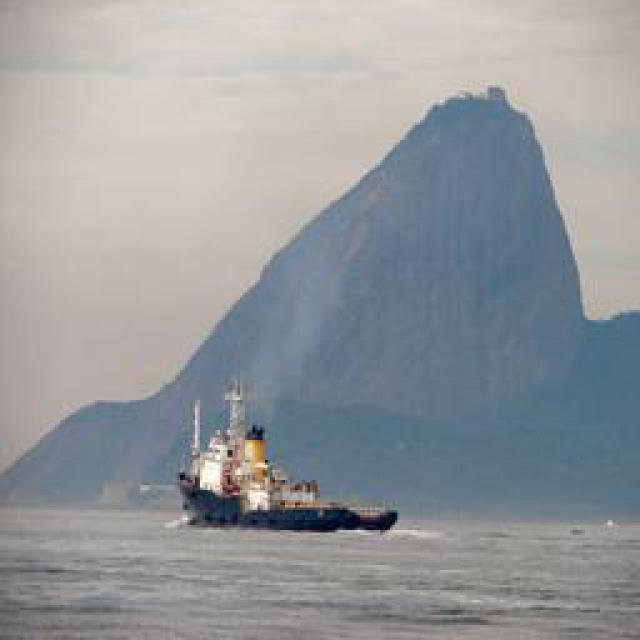Ship: (169, 401, 402, 534)
